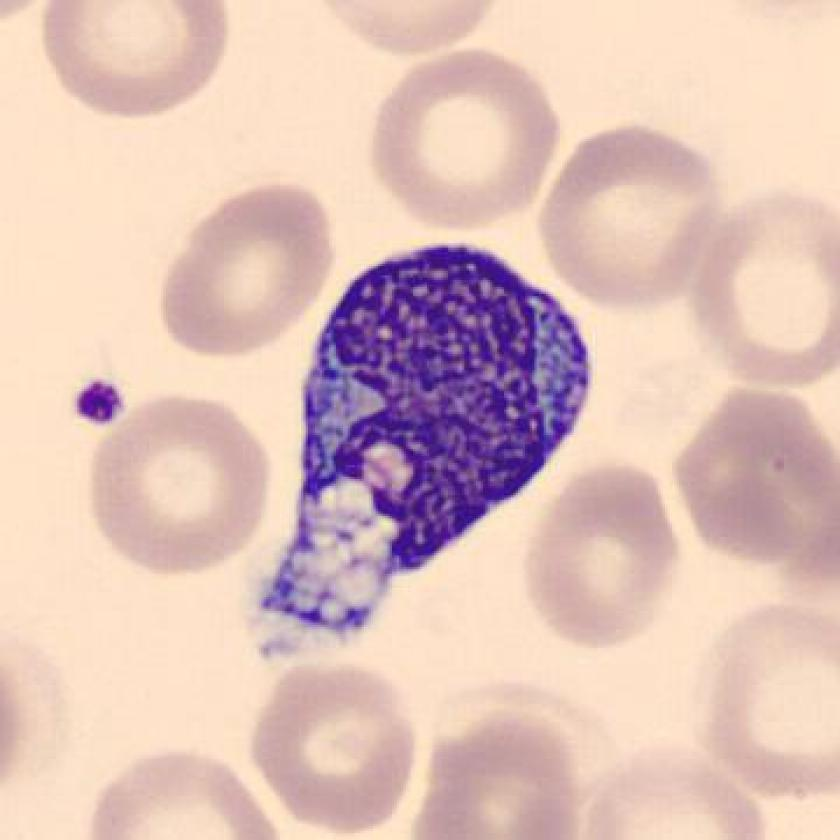monocyte: (232, 219, 626, 695)
